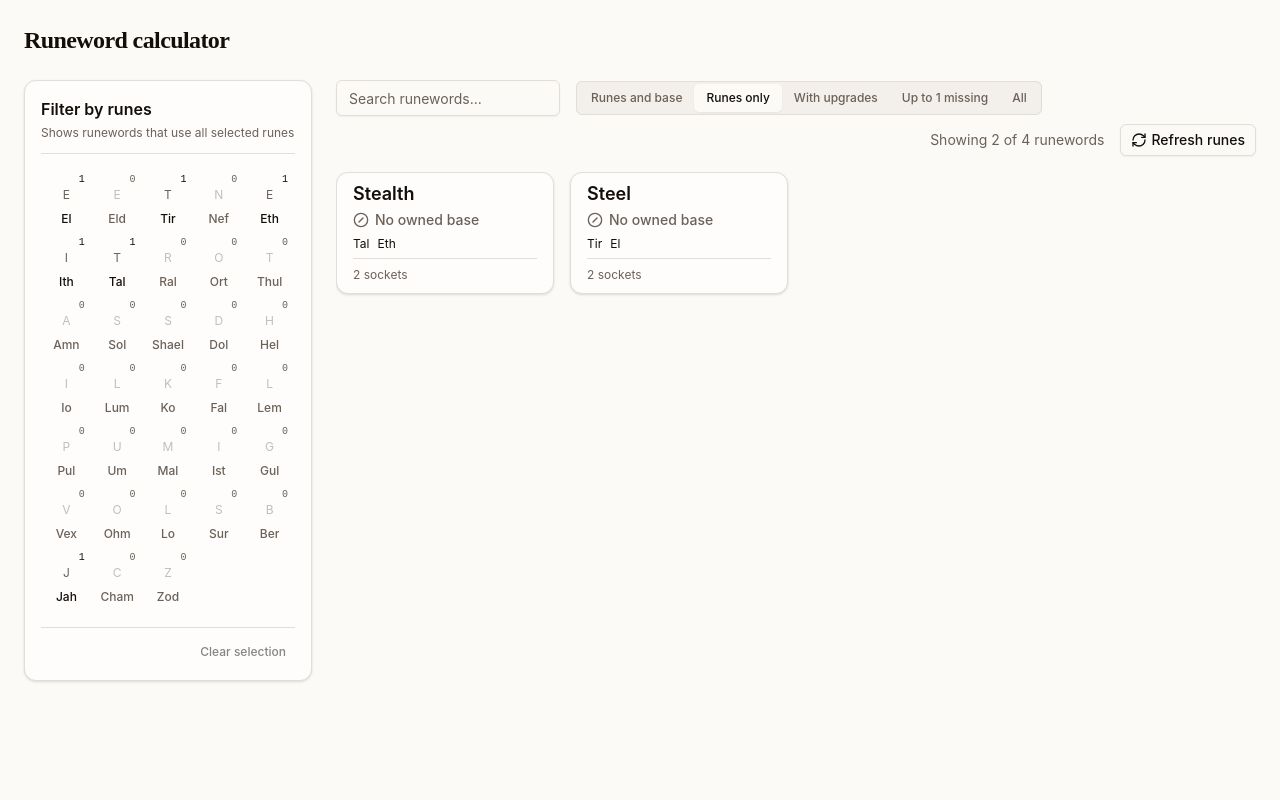
Test: RunewordCalculator › filtered empty state › If a search hides every craftable runeword, then the generic empty state is shown instead of claiming nothing is craftable
The width and height of the screenshot is (1280, 800).
Check: the text "Showing 2 of 4 runewords" is shown, box [930, 130, 1104, 150]
Type "Enigma" into the field with placeholder "Search runewords...".
click(448, 98); type("Enigma")  # box [336, 80, 560, 116]
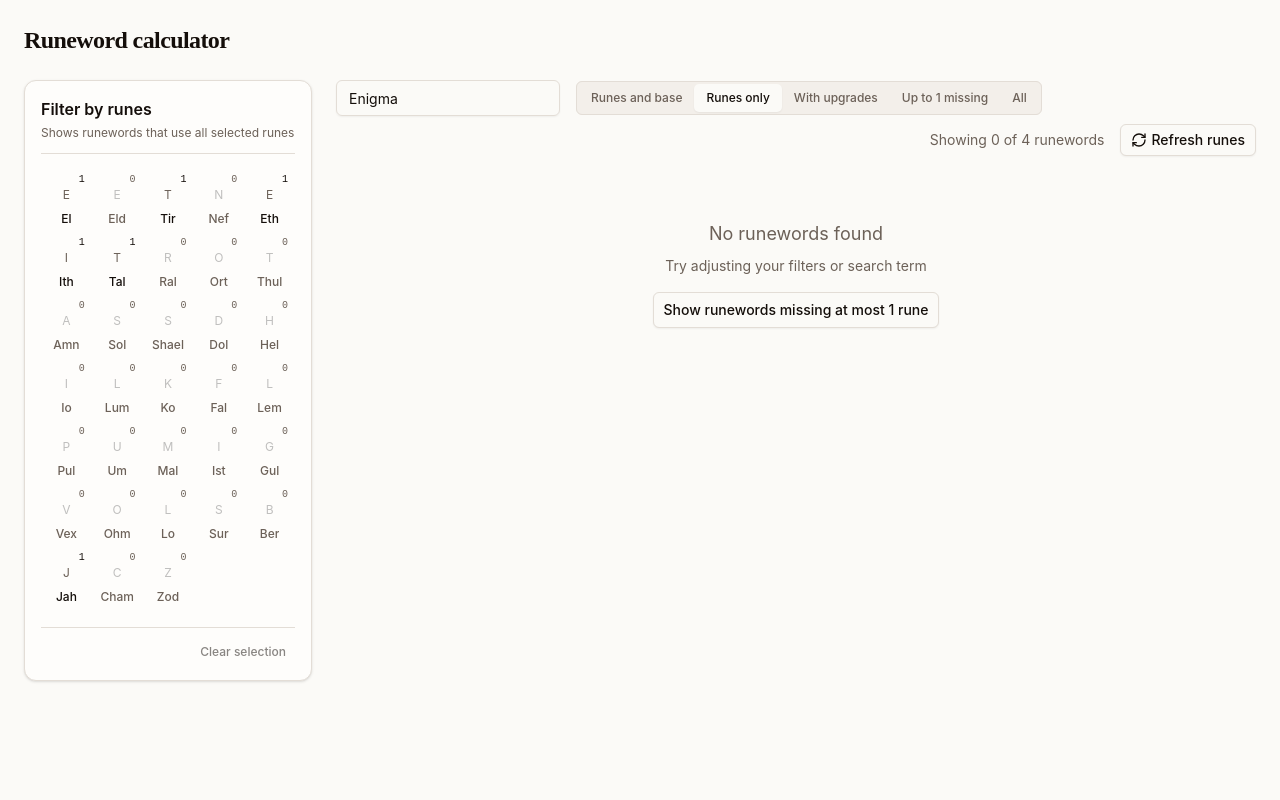
Check: the text "No runewords found" is shown, box [709, 223, 883, 244]
Check: the button "Show runewords missing at most 1 rune" is shown, box [652, 292, 940, 328]
